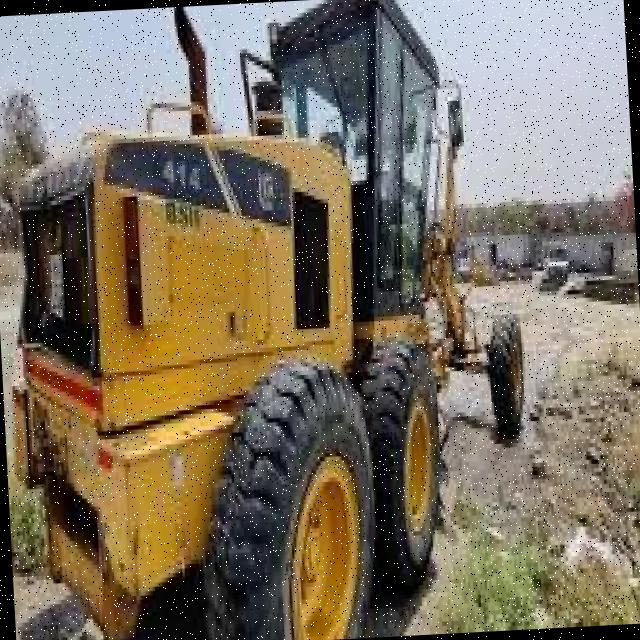Grader: (7, 0, 581, 640)
